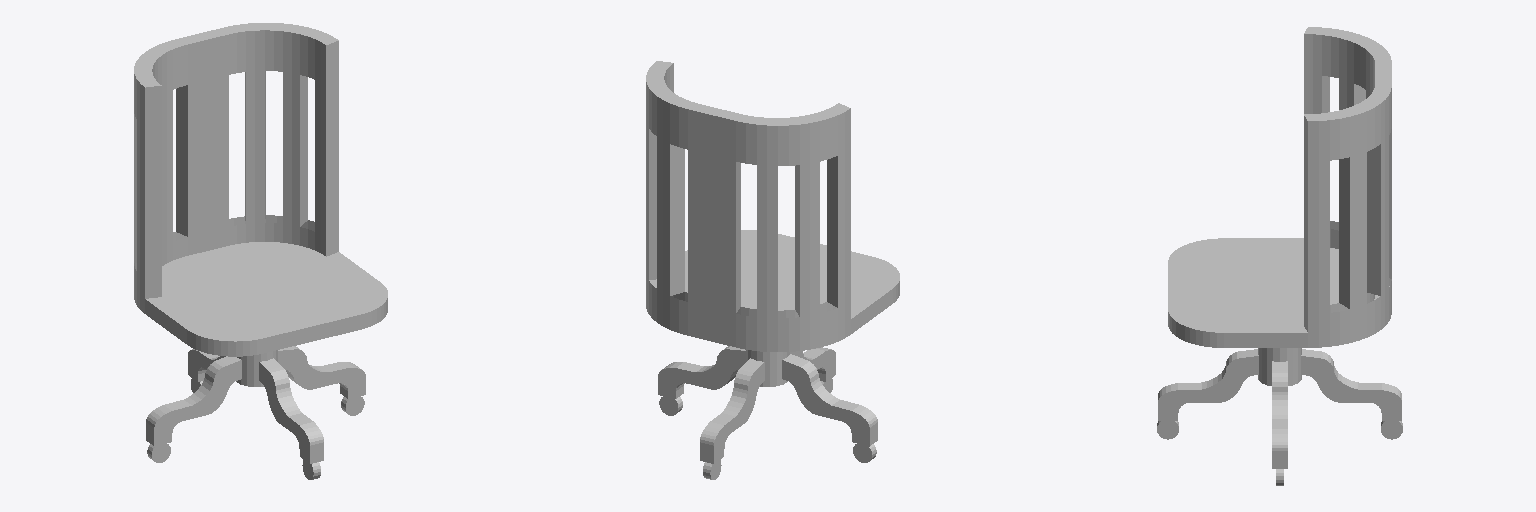
File: chair.obj
3 renders of one model, left to right at view 1: azimuth 30°, elevation 25°; view 2: azimuth 150°, elevation 25°; view 3: azimuth 270°, elevation 25°, orthographic.
Parts seen in each view (by area): view 1: chair:pCube5; view 2: chair:pCube5; view 3: chair:pCube5.
Boxes of the visible parts, <box> form: chair:pCube5: <box>134,23,387,479</box>; chair:pCube5: <box>646,61,899,479</box>; chair:pCube5: <box>1157,27,1402,485</box>.
Bounding box in the file's own units: 5.5 × 8.96 × 5.5.